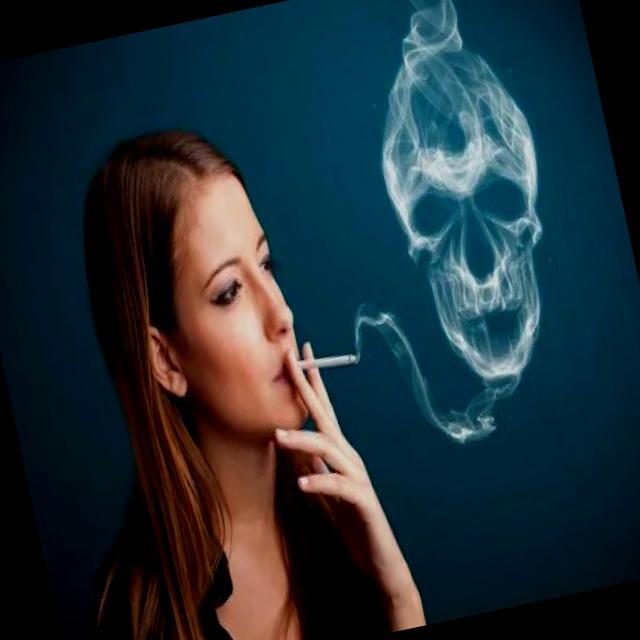cigarette: (281, 339, 365, 383)
